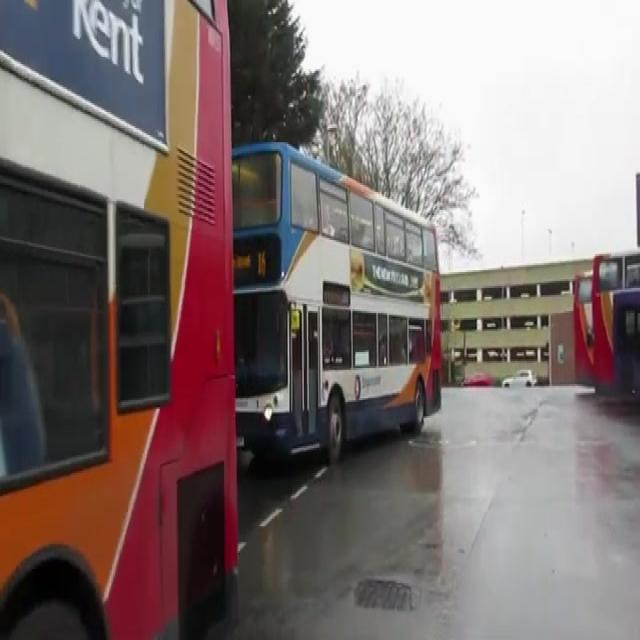bus: (1, 3, 245, 639), (226, 137, 446, 467), (574, 250, 594, 388), (615, 296, 640, 401), (594, 256, 613, 394)
